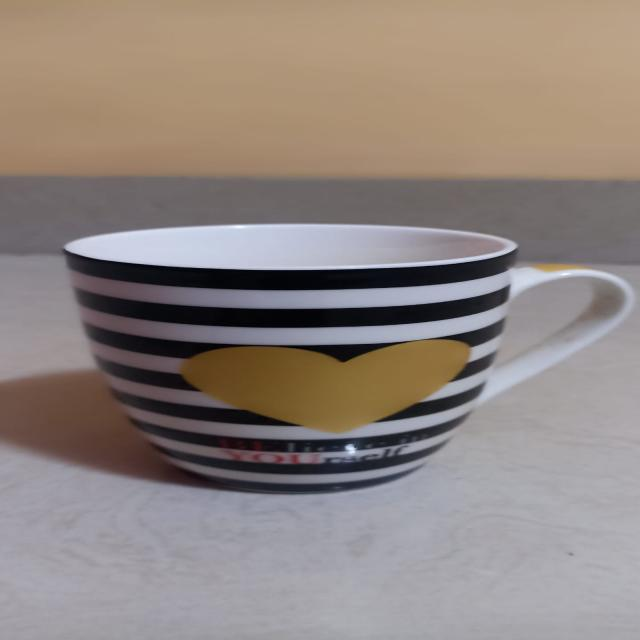cup: (45, 218, 640, 500)
